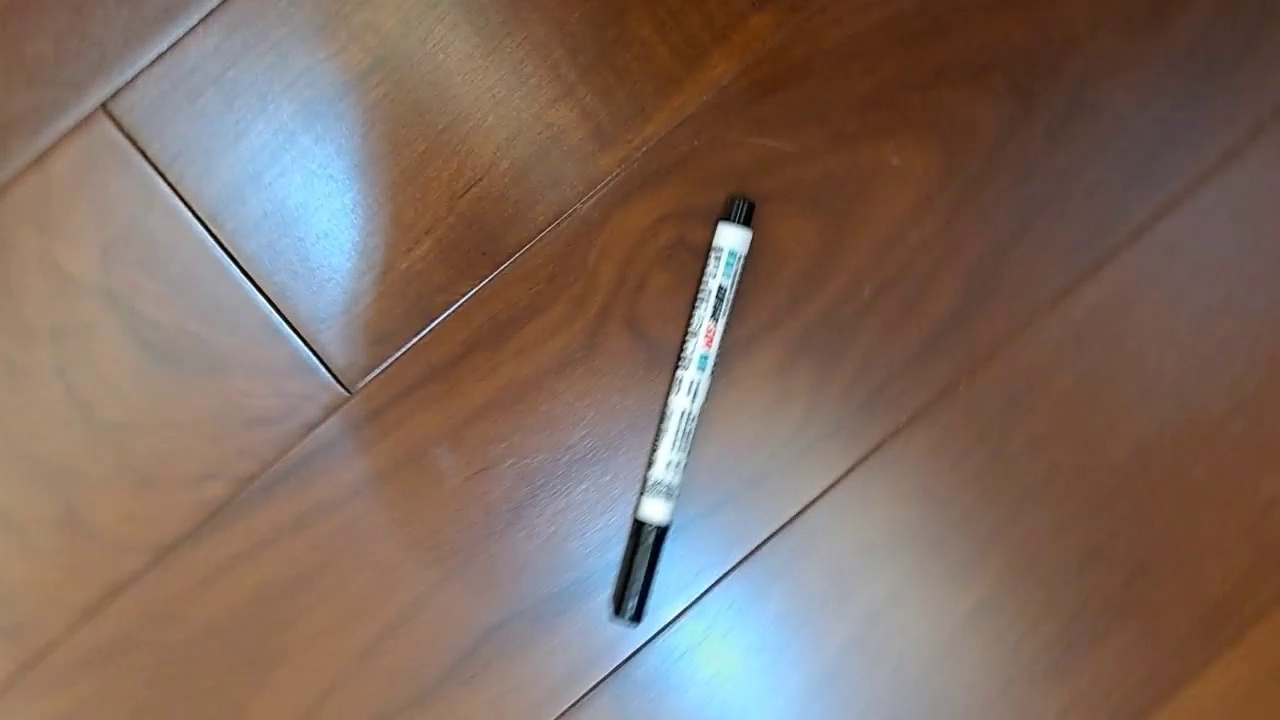pen: (608, 193, 758, 630)
